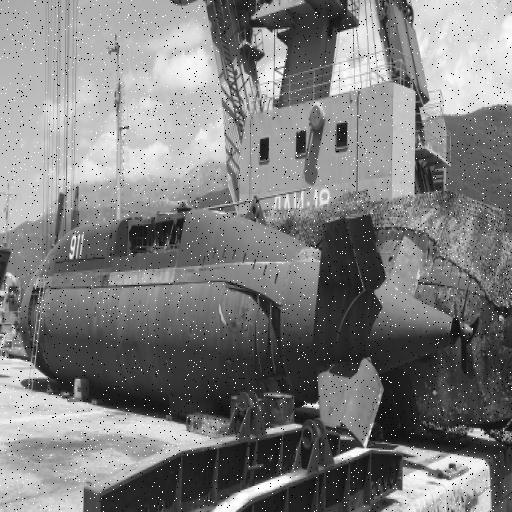submarine: (30, 206, 484, 432)
